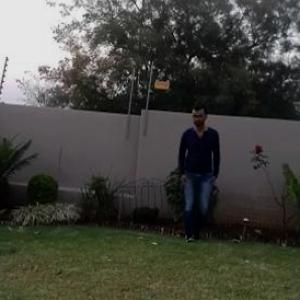follow: (172, 102, 222, 243)
